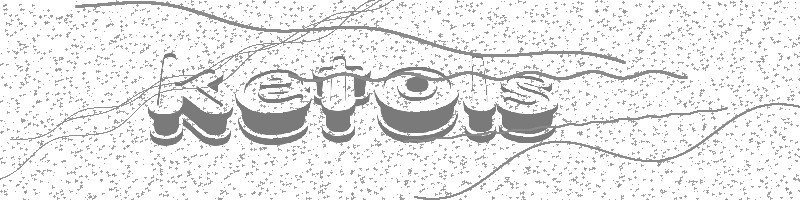e: (234, 67, 314, 146)
i: (461, 52, 498, 144)
k: (146, 49, 233, 147)
o: (373, 65, 460, 144)
s: (497, 73, 561, 145)
t: (312, 55, 372, 145)
